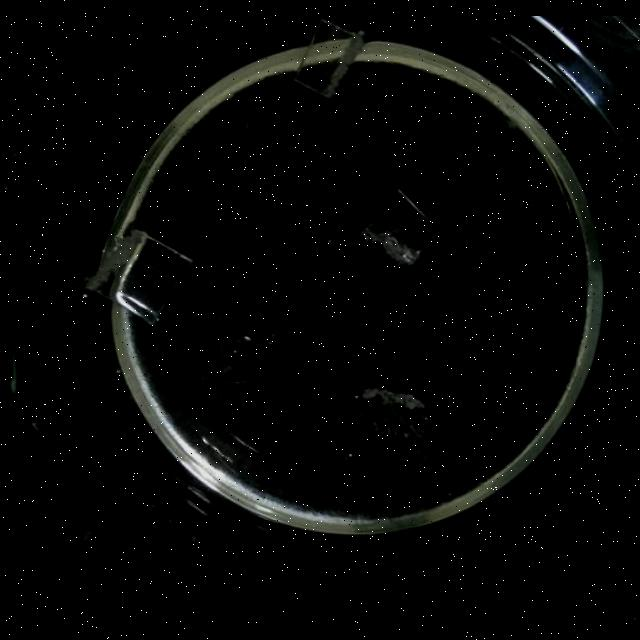Film: (84, 228, 192, 320), (216, 300, 300, 386), (358, 183, 439, 265), (346, 386, 428, 464), (296, 14, 366, 98)
microbeads: (30, 421, 40, 434)
